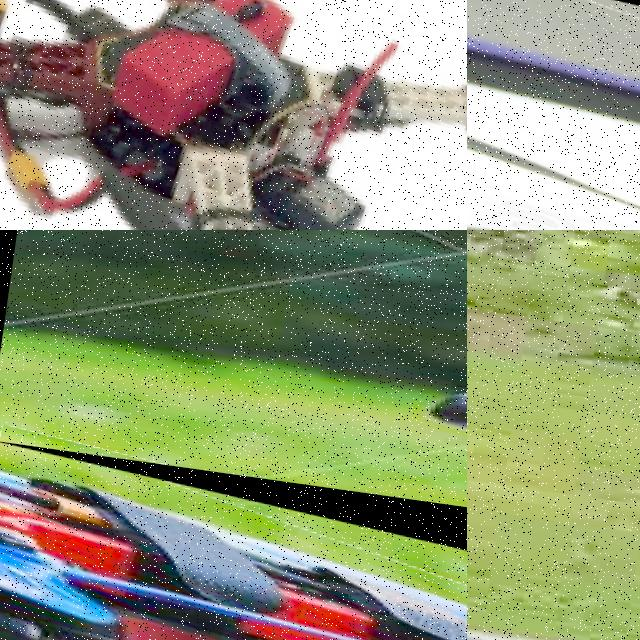drone: (0, 0, 467, 230), (0, 440, 467, 640), (467, 0, 640, 230)
